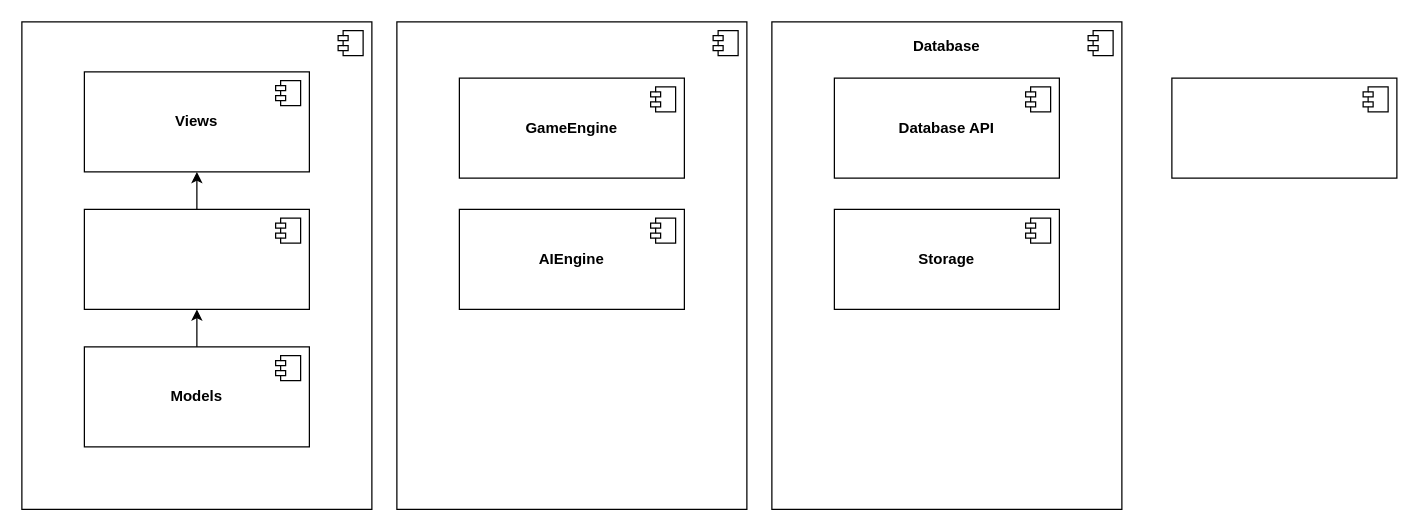
Some shapes in this 1419 by 531 pixel diagram are drawn without their labels. The box of each missing label's shape, as (x1, y1, x2, y2) in pixels:
App: (21, 21, 372, 509)
CardAPI: (1171, 77, 1397, 178)
Engines: (396, 21, 747, 509)
ViewModels: (83, 208, 309, 309)
